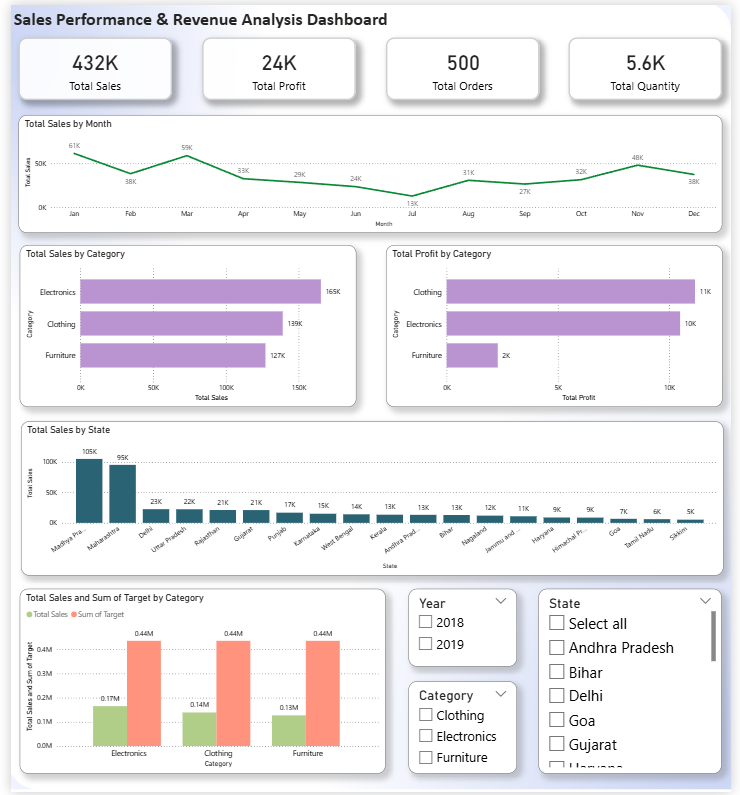

What the dashboard file says about the page in this screenshot:
{"tool":"powerbi","page":{"name":"Page 1","canvas":[1280,1400],"ordinal":0},"visuals":[{"type":"card","fields":{"Values":["sales_project order_details.Total Sales"]},"box":[13.7,57.6,273.1,111.1],"z":0,"group":"g1"},{"type":"textbox","box":[0,0,862.5,57.5],"z":0},{"type":"card","fields":{"Values":["sales_project order_details.Total Quantity"]},"box":[992.1,57.6,273.1,111.1],"z":1000,"group":"g1"},{"type":"group","id":"g1","title":"Group 1","box":[13.7,57.6,1251.5,111.1],"z":1000},{"type":"card","fields":{"Values":["sales_project orders.Total Orders"]},"box":[666,57.6,273.1,111.1],"z":2000,"group":"g1"},{"type":"lineChart","fields":{"Y":["sales_project order_details.Total Sales"],"Category":["sales_project orders.Month"]},"box":[13.7,194.9,1251.5,209.9],"z":2000},{"type":"card","fields":{"Values":["sales_project order_details.Total Profit"]},"box":[339.8,57.6,273.1,111.1],"z":3000,"group":"g1"},{"type":"barChart","fields":{"Category":["sales_project order_details.Category"],"Y":["sales_project order_details.Total Sales"]},"box":[15,426.7,598.3,288.3],"z":3000},{"type":"barChart","fields":{"Category":["sales_project order_details.Category"],"Y":["sales_project order_details.Total Profit"]},"box":[666.7,426.7,598.3,288.3],"z":3001},{"type":"columnChart","fields":{"Category":["sales_project orders.State"],"Y":["sales_project order_details.Total Sales"]},"box":[17.1,740,1248.6,274.3],"z":3002},{"type":"clusteredColumnChart","fields":{"Category":["sales_project order_details.Category"],"Y":["sales_project order_details.Total Sales","Sum(sales_project sales_target.Target)"]},"box":[15.7,1038.6,650,328.6],"z":3003},{"type":"slicer","fields":{"Values":["sales_project orders.Year"]},"box":[705.7,1038.6,192.9,138.6],"z":3004},{"type":"slicer","fields":{"Values":["sales_project order_details.Category"]},"box":[705.7,1202.9,192.9,164.3],"z":3005},{"type":"slicer","fields":{"Values":["sales_project orders.State"]},"box":[938.6,1038.6,325.7,328.6],"z":3006}]}

Visuals, with their boxes in screenshot pixels (x1, y1, x2, y2), scaled from the page's 1280x1400 canvas onto the 740x795 screenshot:
card - sales_project order_details.Total Sales: [left=8, top=33, right=166, bottom=96]
textbox: [left=0, top=0, right=499, bottom=33]
card - sales_project order_details.Total Quantity: [left=574, top=33, right=731, bottom=96]
"Group 1" group: [left=8, top=33, right=731, bottom=96]
card - sales_project orders.Total Orders: [left=385, top=33, right=543, bottom=96]
lineChart - sales_project order_details.Total Sales x sales_project orders.Month: [left=8, top=111, right=731, bottom=230]
card - sales_project order_details.Total Profit: [left=196, top=33, right=354, bottom=96]
barChart - sales_project order_details.Category x sales_project order_details.Total Sales: [left=9, top=242, right=355, bottom=406]
barChart - sales_project order_details.Category x sales_project order_details.Total Profit: [left=385, top=242, right=731, bottom=406]
columnChart - sales_project orders.State x sales_project order_details.Total Sales: [left=10, top=420, right=732, bottom=576]
clusteredColumnChart - sales_project order_details.Category x sales_project order_details.Total Sales: [left=9, top=590, right=385, bottom=776]
slicer - sales_project orders.Year: [left=408, top=590, right=520, bottom=668]
slicer - sales_project order_details.Category: [left=408, top=683, right=520, bottom=776]
slicer - sales_project orders.State: [left=543, top=590, right=731, bottom=776]
